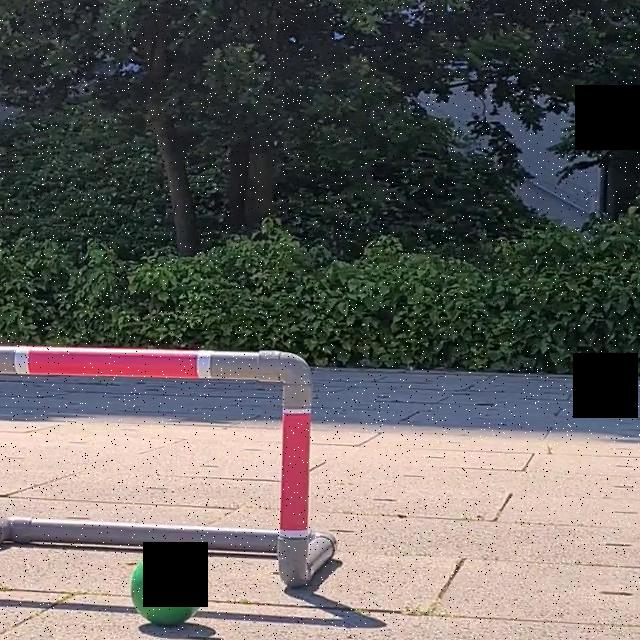ball: (128, 542, 208, 630)
